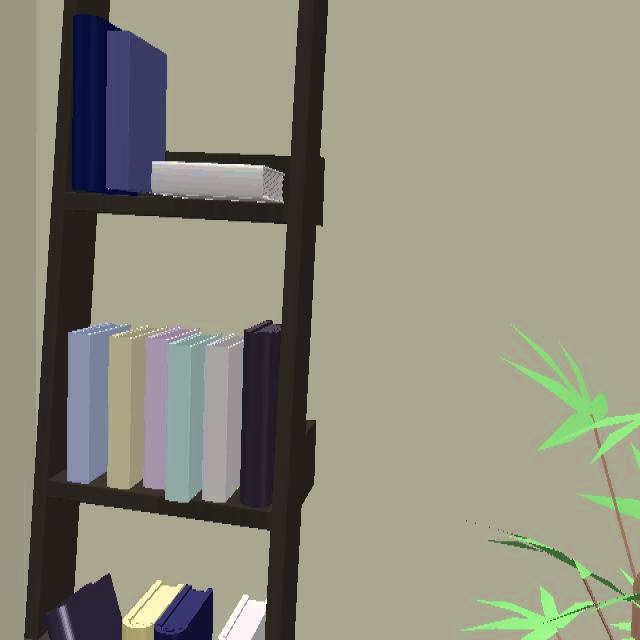book: (67, 321, 281, 507), (73, 15, 264, 201), (46, 575, 213, 640), (218, 596, 266, 640)
bookshelf: (36, 0, 328, 640)
